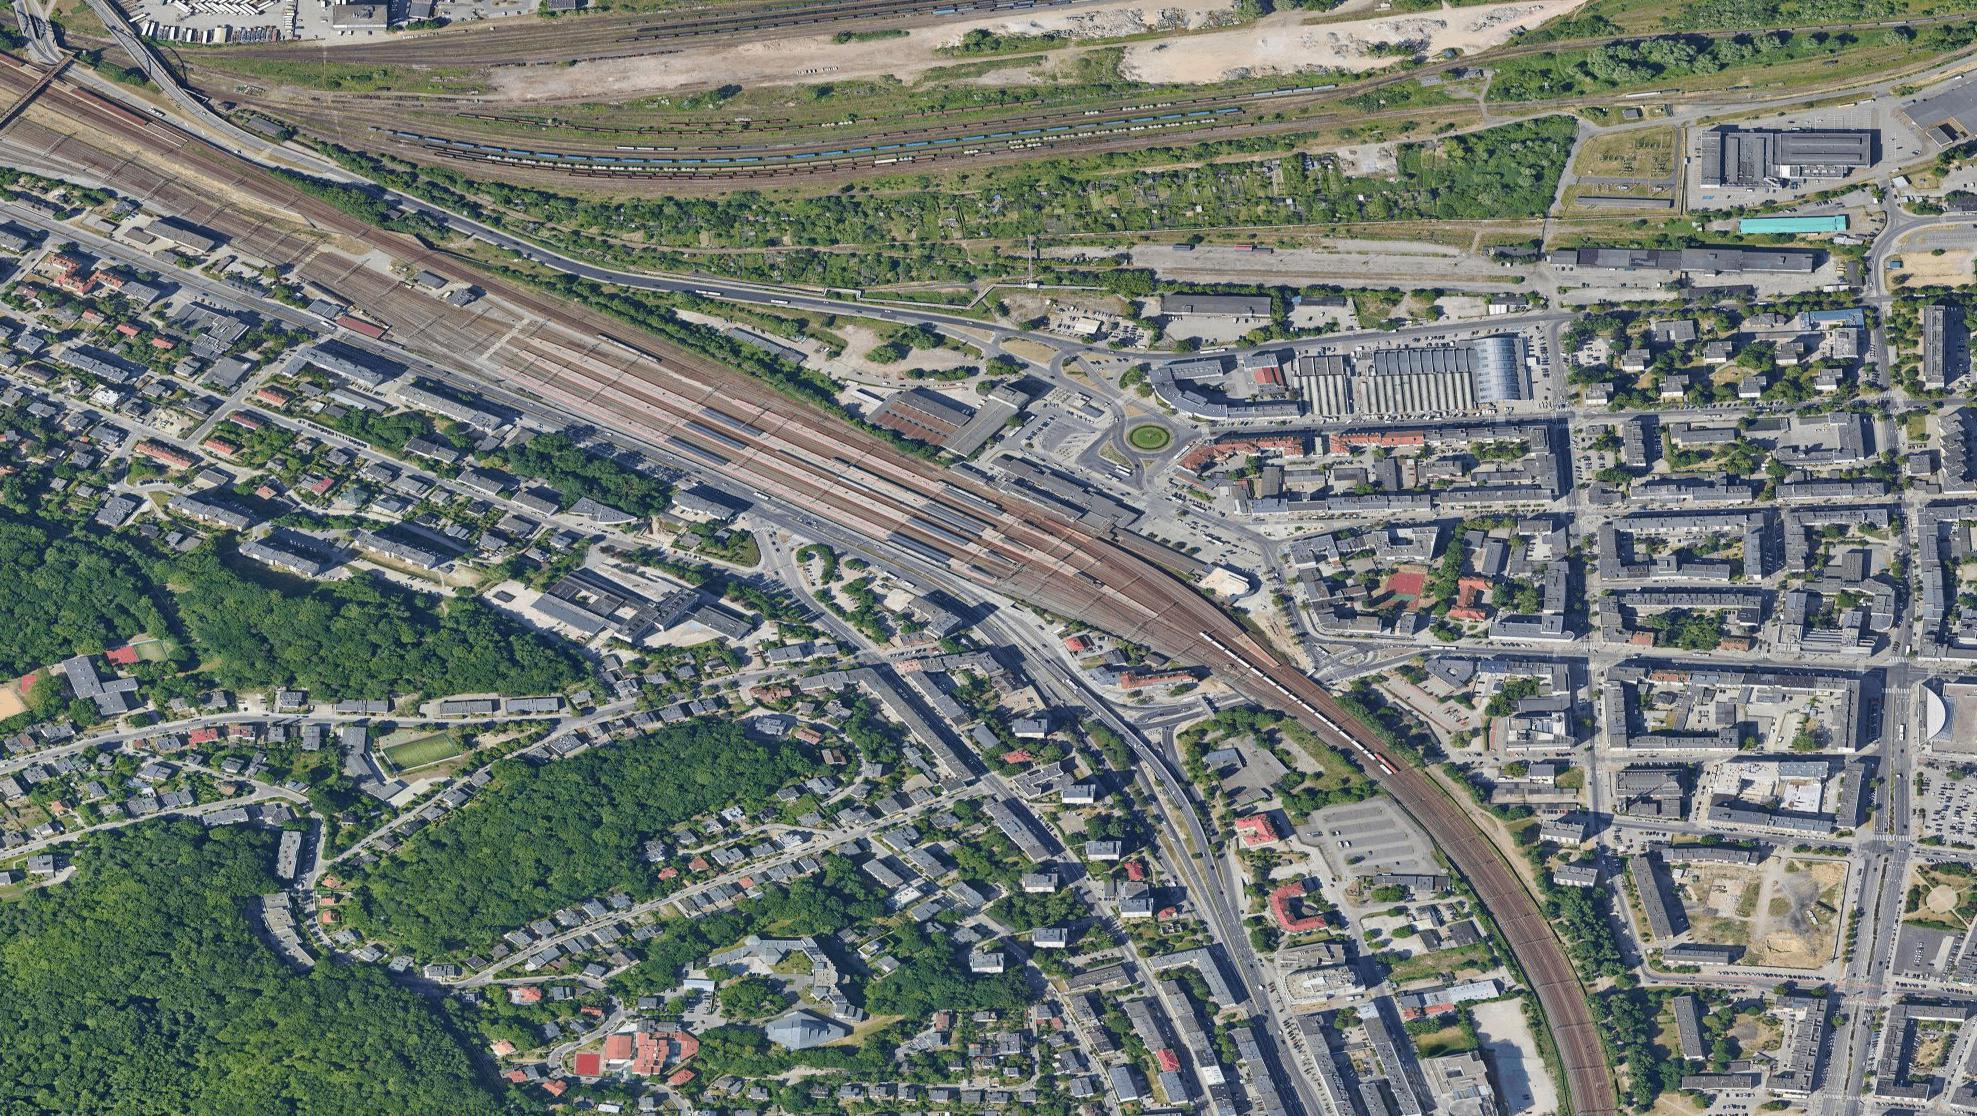bridge: (106, 23, 170, 81)
train_station: (792, 371, 1122, 619)
